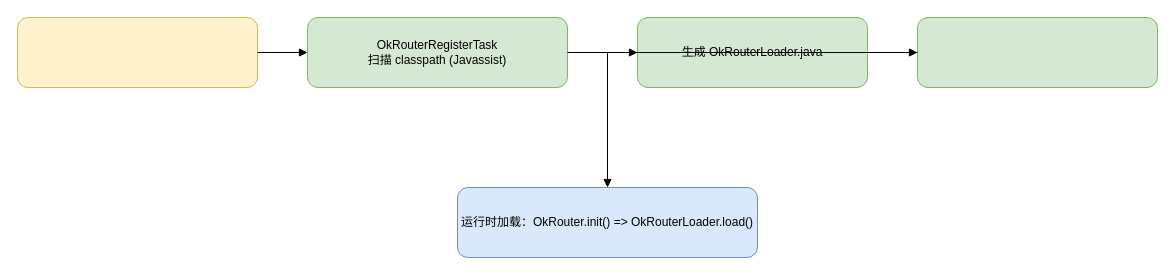
The diagram is 1175 pixels wide and 275 high, and some of its shapes have lost their labels. The box of each missing label's shape, as (x1, y1, x2, y2) in pixels:
OkRouterCompileTask 编译到变体 classes 目录: (916, 16, 1158, 88)
业务代码 & @Router/@Interceptor: (16, 16, 258, 88)
